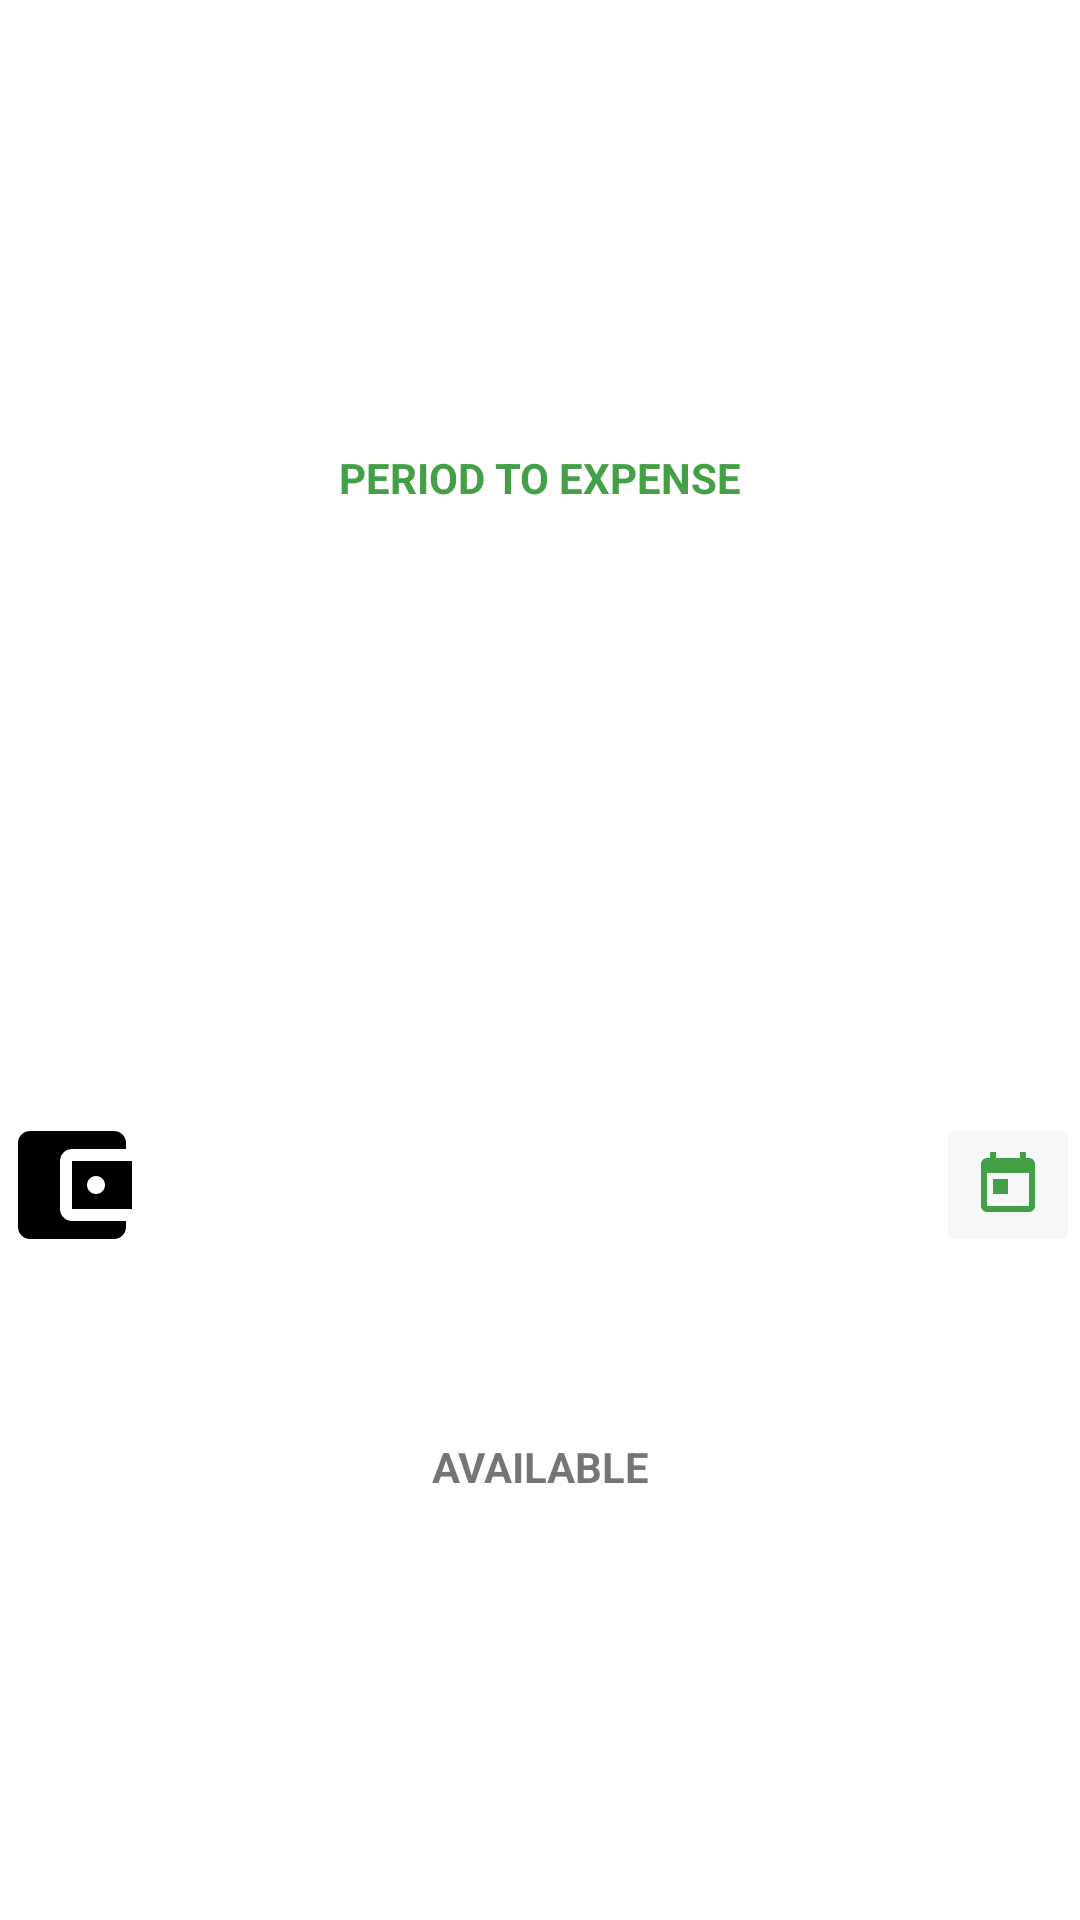

Icon click points for this 1080px×1920px phone screenshot, format (x,y):
today: (1008,1182)
wallet: (75,1185)
